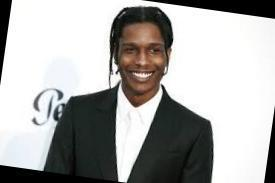Sober: (122, 26, 164, 91)
